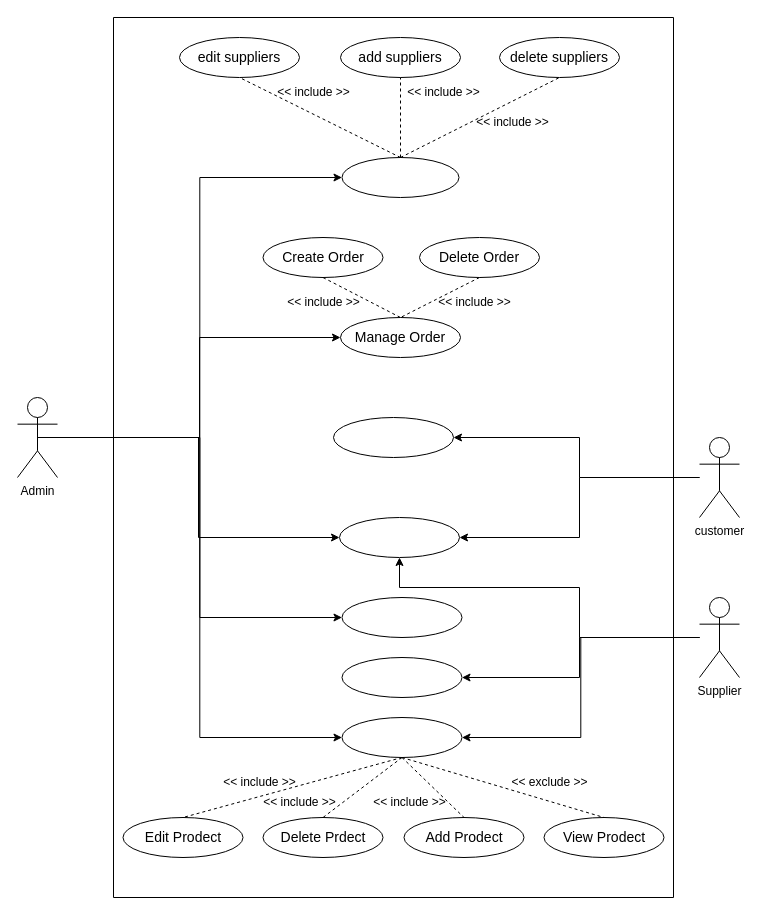
This 761x915 diagram has some shape labels left out. Here are the shapes that lost their labels. From the top down, the centre of each, then its label:
At (400,177): "manage suppliers".
At (393,437): "place order".
At (399,537): "login".
At (401,617): "Register".
At (401,677): "StockMovement".
At (401,737): "Manage Prodect".
